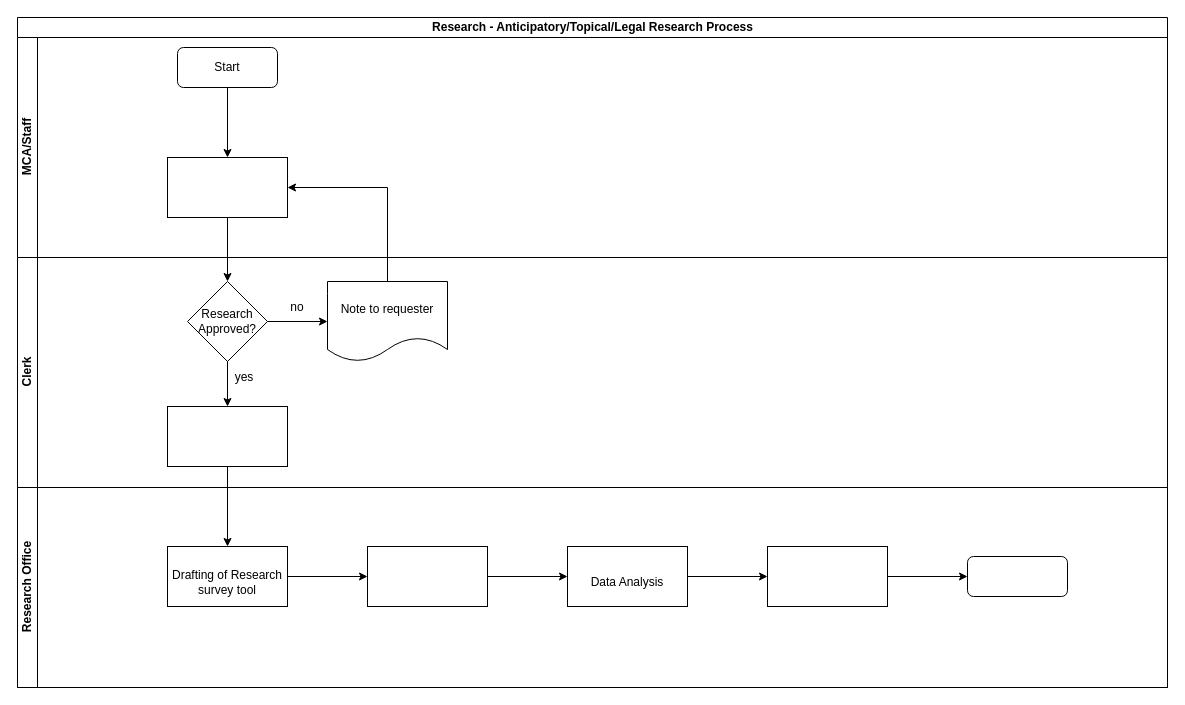
Image size: 1185x705. Some labels were removed from this diagram. Each missing label, with the centre of its shape:
"End" goes at (x=1017, y=576).
"Notify research office" goes at (x=227, y=436).
"Publication of Research Report" goes at (x=827, y=576).
"Request for Research" goes at (x=227, y=187).
"Submission of survey feedback" goes at (x=427, y=576).
